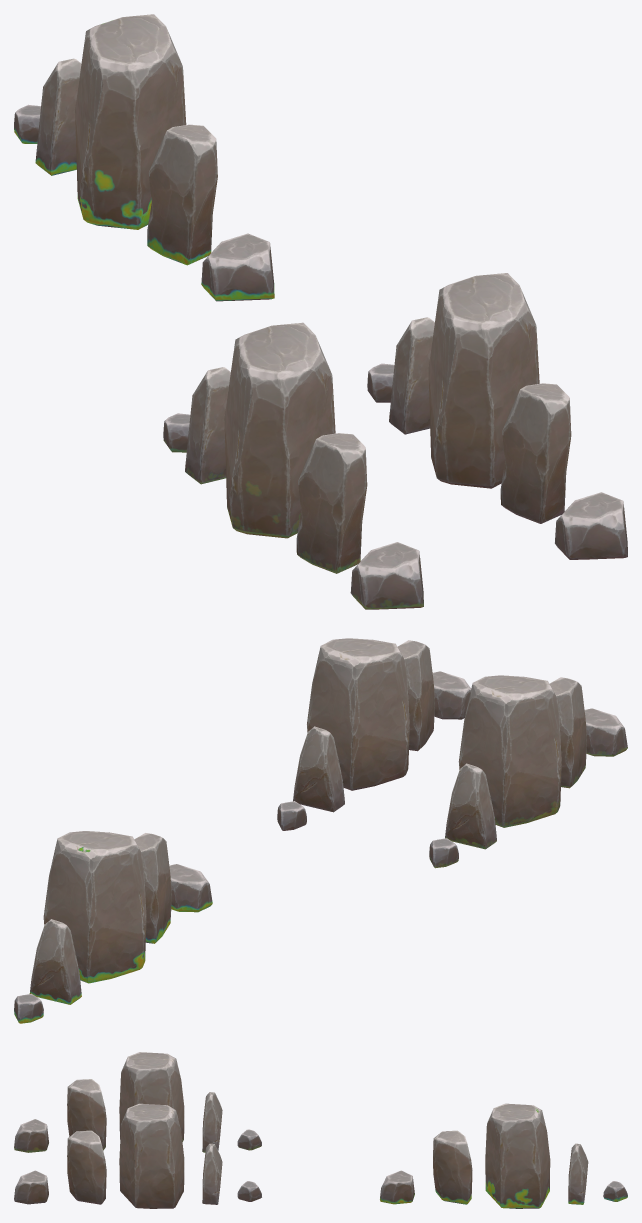
3 renders of one model, top to bottom at view 1: azimuth 30°, elevation 25°; view 2: azimuth 150°, elevation 25°; view 3: azimuth 270°, elevation 25°, orthographic. The views are drawn at different scales.
Visible parts, largest first — view 1: Stone_5_Low, Stone_5_Low.002, Stone_5_Low.001, Stone_4_Low, Stone_4_Low.002, Stone_4_Low.001, Stone_2_Low, Stone_2_Low.001, Stone_2_Low.002, Stone_3_Low, Stone_3_Low.001, Stone_3_Low.002 (+3 smaller); view 2: Stone_5_Low.002, Stone_5_Low.001, Stone_5_Low, Stone_3_Low, Stone_3_Low.002, Stone_3_Low.001, Stone_4_Low.001, Stone_4_Low, Stone_4_Low.002, Stone_2_Low.002, Stone_2_Low, Stone_2_Low.001 (+3 smaller); view 3: Stone_5_Low.001, Stone_5_Low, Stone_5_Low.002, Stone_4_Low.001, Stone_4_Low, Stone_4_Low.002, Stone_3_Low, Stone_3_Low.001, Stone_2_Low.001, Stone_2_Low.002, Stone_2_Low, Stone_3_Low.002 (+3 smaller).
Part boxes in pixels (left/top/right/bottom): Stone_5_Low: left=75, top=14, right=186, bottom=229; Stone_5_Low.002: left=224, top=322, right=335, bottom=538; Stone_5_Low.001: left=428, top=273, right=539, bottom=488; Stone_4_Low: left=147, top=124, right=217, bottom=265; Stone_4_Low.002: left=296, top=433, right=367, bottom=573; Stone_4_Low.001: left=500, top=383, right=571, bottom=523; Stone_2_Low: left=201, top=233, right=274, bottom=301; Stone_2_Low.001: left=555, top=492, right=627, bottom=559; Stone_2_Low.002: left=350, top=542, right=423, bottom=609; Stone_3_Low: left=35, top=58, right=81, bottom=175; Stone_3_Low.001: left=389, top=317, right=434, bottom=434; Stone_3_Low.002: left=185, top=367, right=230, bottom=484; Stone_5_Low.002: left=458, top=675, right=561, bottom=827; Stone_5_Low.001: left=307, top=638, right=409, bottom=790; Stone_5_Low: left=43, top=831, right=146, bottom=983; Stone_3_Low: left=29, top=919, right=81, bottom=1004; Stone_3_Low.002: left=445, top=763, right=496, bottom=849; Stone_3_Low.001: left=293, top=726, right=344, bottom=812; Stone_4_Low.001: left=398, top=640, right=435, bottom=751; Stone_4_Low: left=134, top=833, right=171, bottom=943; Stone_4_Low.002: left=549, top=677, right=587, bottom=788; Stone_2_Low.002: left=584, top=708, right=627, bottom=756; Stone_2_Low: left=169, top=864, right=212, bottom=912; Stone_2_Low.001: left=432, top=671, right=471, bottom=719; Stone_5_Low.001: left=119, top=1103, right=184, bottom=1208; Stone_5_Low: left=485, top=1103, right=550, bottom=1208; Stone_5_Low.002: left=119, top=1052, right=184, bottom=1141; Stone_4_Low.001: left=67, top=1130, right=106, bottom=1204; Stone_4_Low: left=433, top=1130, right=472, bottom=1204; Stone_4_Low.002: left=67, top=1079, right=106, bottom=1150; Stone_3_Low: left=568, top=1143, right=588, bottom=1204; Stone_3_Low.001: left=202, top=1143, right=222, bottom=1204; Stone_2_Low.001: left=14, top=1170, right=48, bottom=1204; Stone_2_Low.002: left=14, top=1119, right=48, bottom=1152; Stone_2_Low: left=380, top=1170, right=414, bottom=1204; Stone_3_Low.002: left=202, top=1092, right=222, bottom=1152.
Size of the model in its own units: 304 by 166 by 1007.
3 materials, 3 textured.
